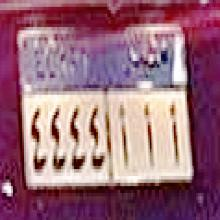4: (67, 104, 88, 176), (28, 104, 48, 178), (86, 100, 105, 172), (48, 104, 68, 170)
alif: (166, 102, 182, 168), (140, 104, 156, 166), (116, 100, 130, 170)
